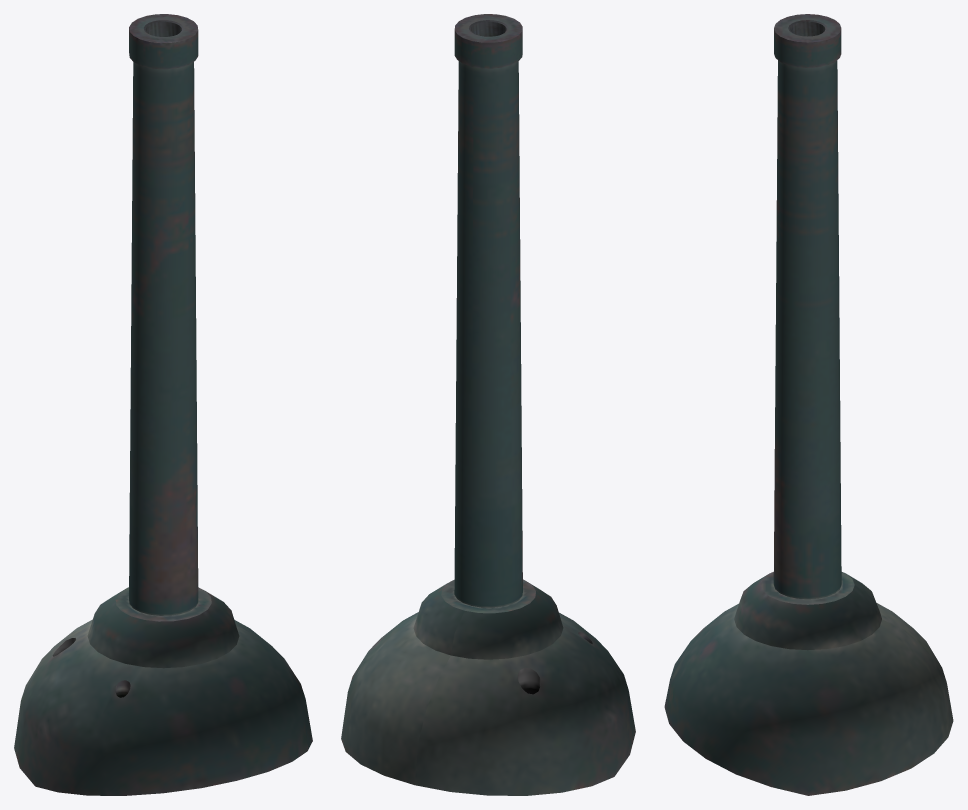
File: Gun_05.glb
3 renders of one model, left to right at view 1: azimuth 30°, elevation 25°; view 2: azimuth 150°, elevation 25°; view 3: azimuth 270°, elevation 25°, orthographic. The views are drawn at different scales.
Parts seen in each view (by area): view 1: set_0_group_0; view 2: set_0_group_0; view 3: set_0_group_0.
Boxes of the visible parts, x1,y1,x2,y2 form: set_0_group_0: (14,14,312,795); set_0_group_0: (341,14,635,795); set_0_group_0: (664,14,953,795).
Size of the model in its own units: 0.607 by 1.65 by 0.6108.
Materials: 1 (1 with a texture image).
